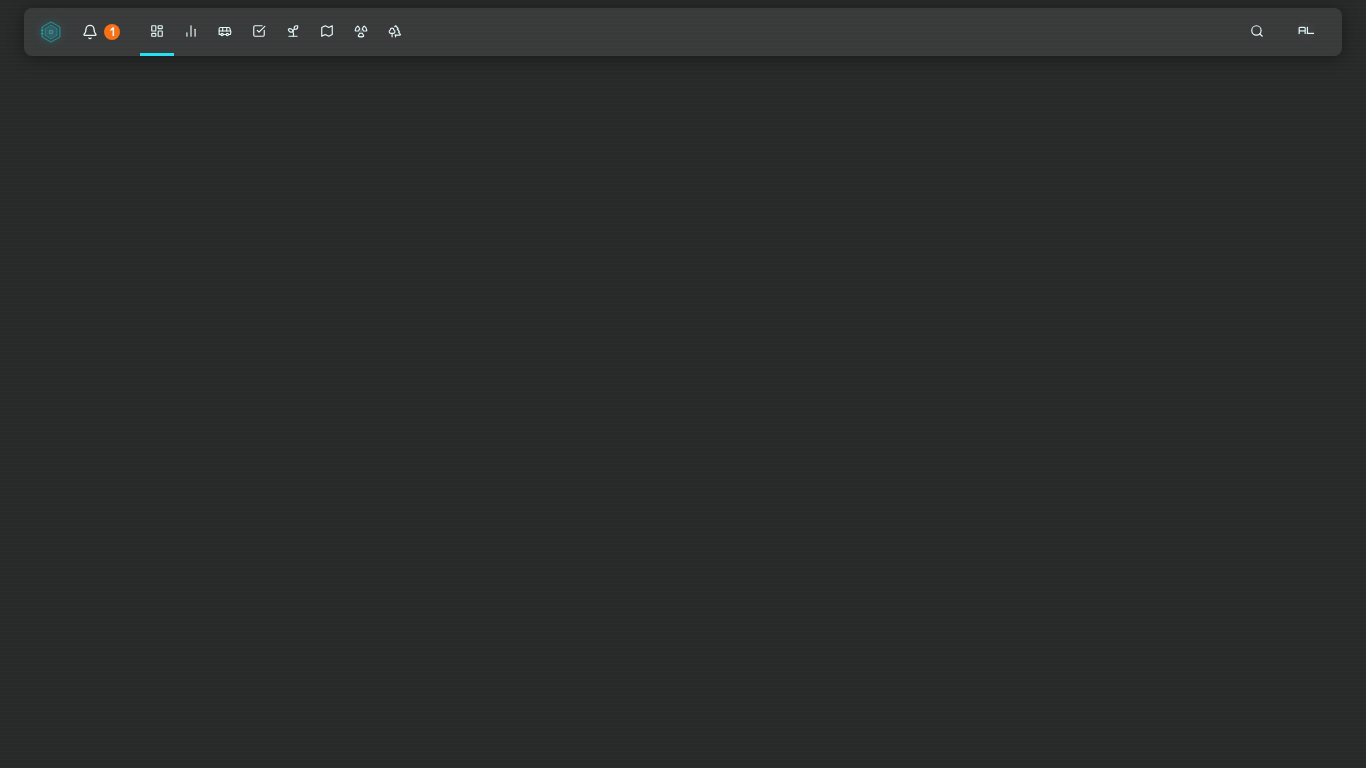
Test: Navbar – join requests (collaborator view) › shows an error message when acceptJoinRequest rejects
Click the button named "1 pending join request".
click(101, 32)  # box left=74, top=8, right=128, bottom=56
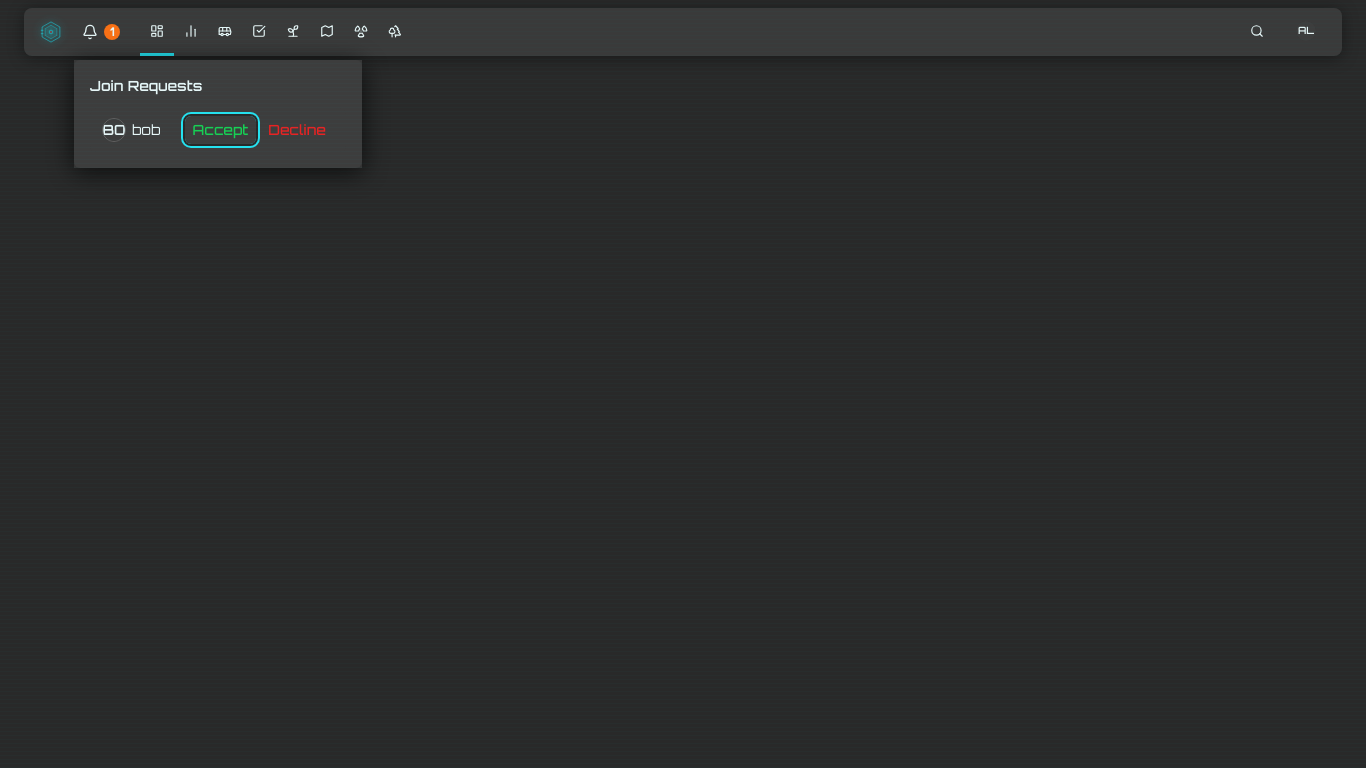
Expected: the text "bob" is shown, left=132, top=120, right=160, bottom=140
Click the button "Accept".
click(220, 130)  # box left=185, top=116, right=256, bottom=144
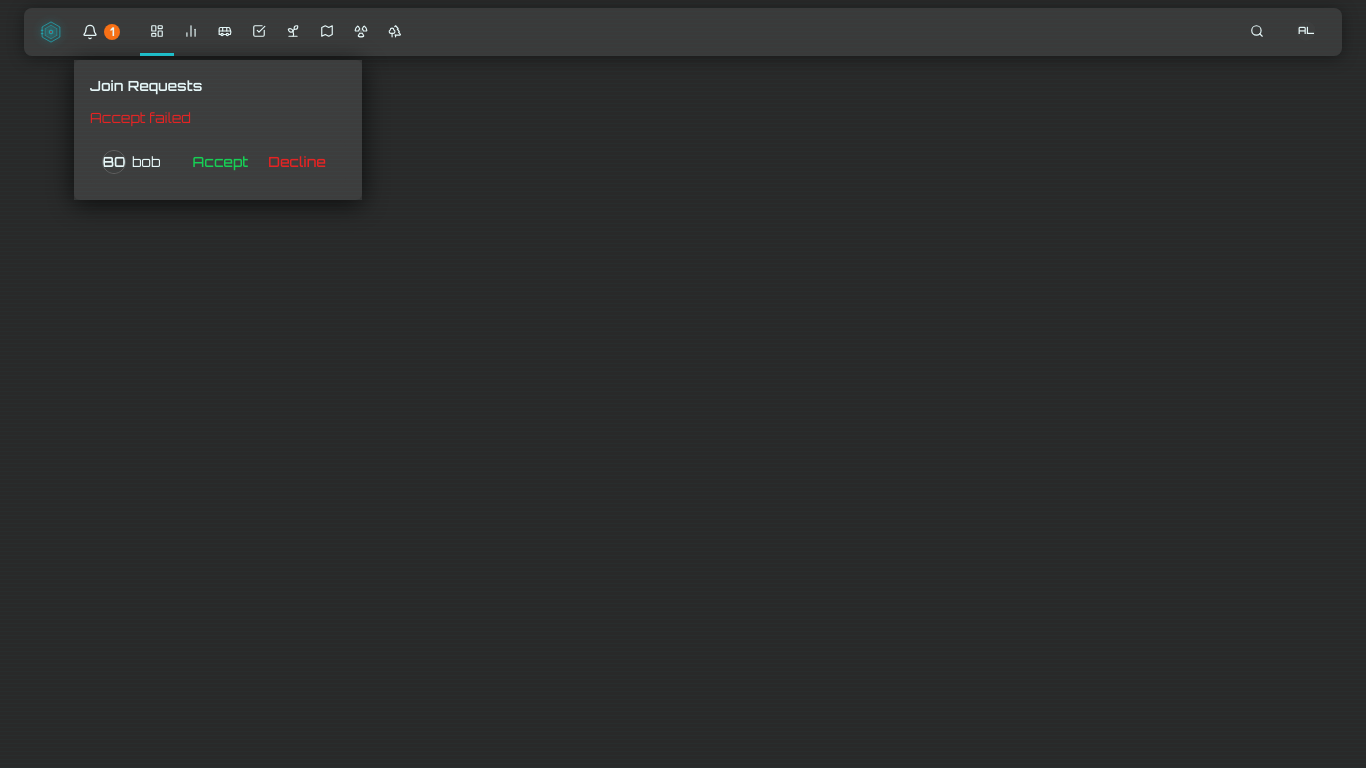
Expected: the text "Accept failed" is shown, left=90, top=109, right=191, bottom=126
